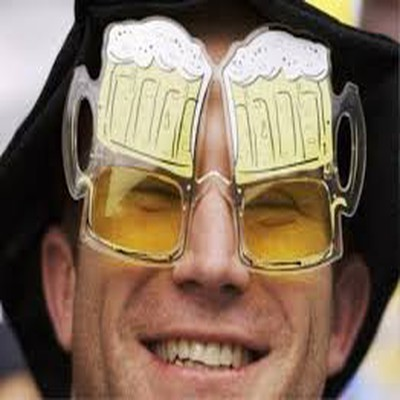eywear: (68, 27, 385, 275)
